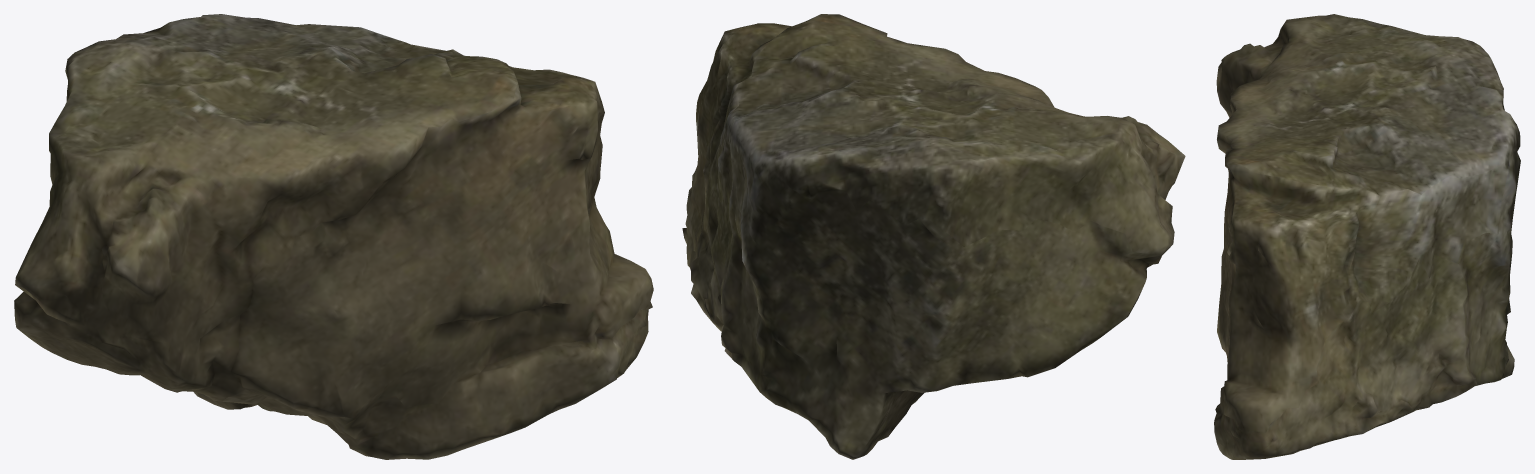
File: Scan_MossStone_G.fbx
3 renders of one model, left to right at view 1: azimuth 30°, elevation 25°; view 2: azimuth 150°, elevation 25°; view 3: azimuth 270°, elevation 25°, orthographic. The views are drawn at different scales.
Parts seen in each view (by area): view 1: Scan_MossStone_G_LOD0; view 2: Scan_MossStone_G_LOD0; view 3: Scan_MossStone_G_LOD0.
Part boxes in pixels (<box>): Scan_MossStone_G_LOD0: <box>14,14,653,459</box>; Scan_MossStone_G_LOD0: <box>682,14,1185,459</box>; Scan_MossStone_G_LOD0: <box>1214,14,1520,459</box>.
Size of what is drawn, in the model's own units: 2.09 by 1.25 by 1.14.
